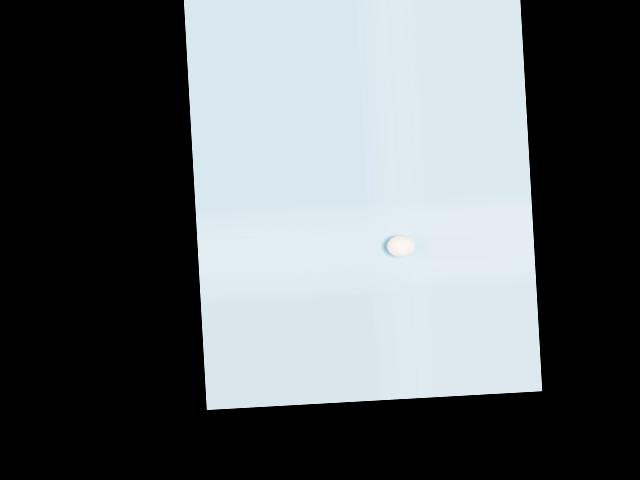egg: (386, 234, 415, 257)
